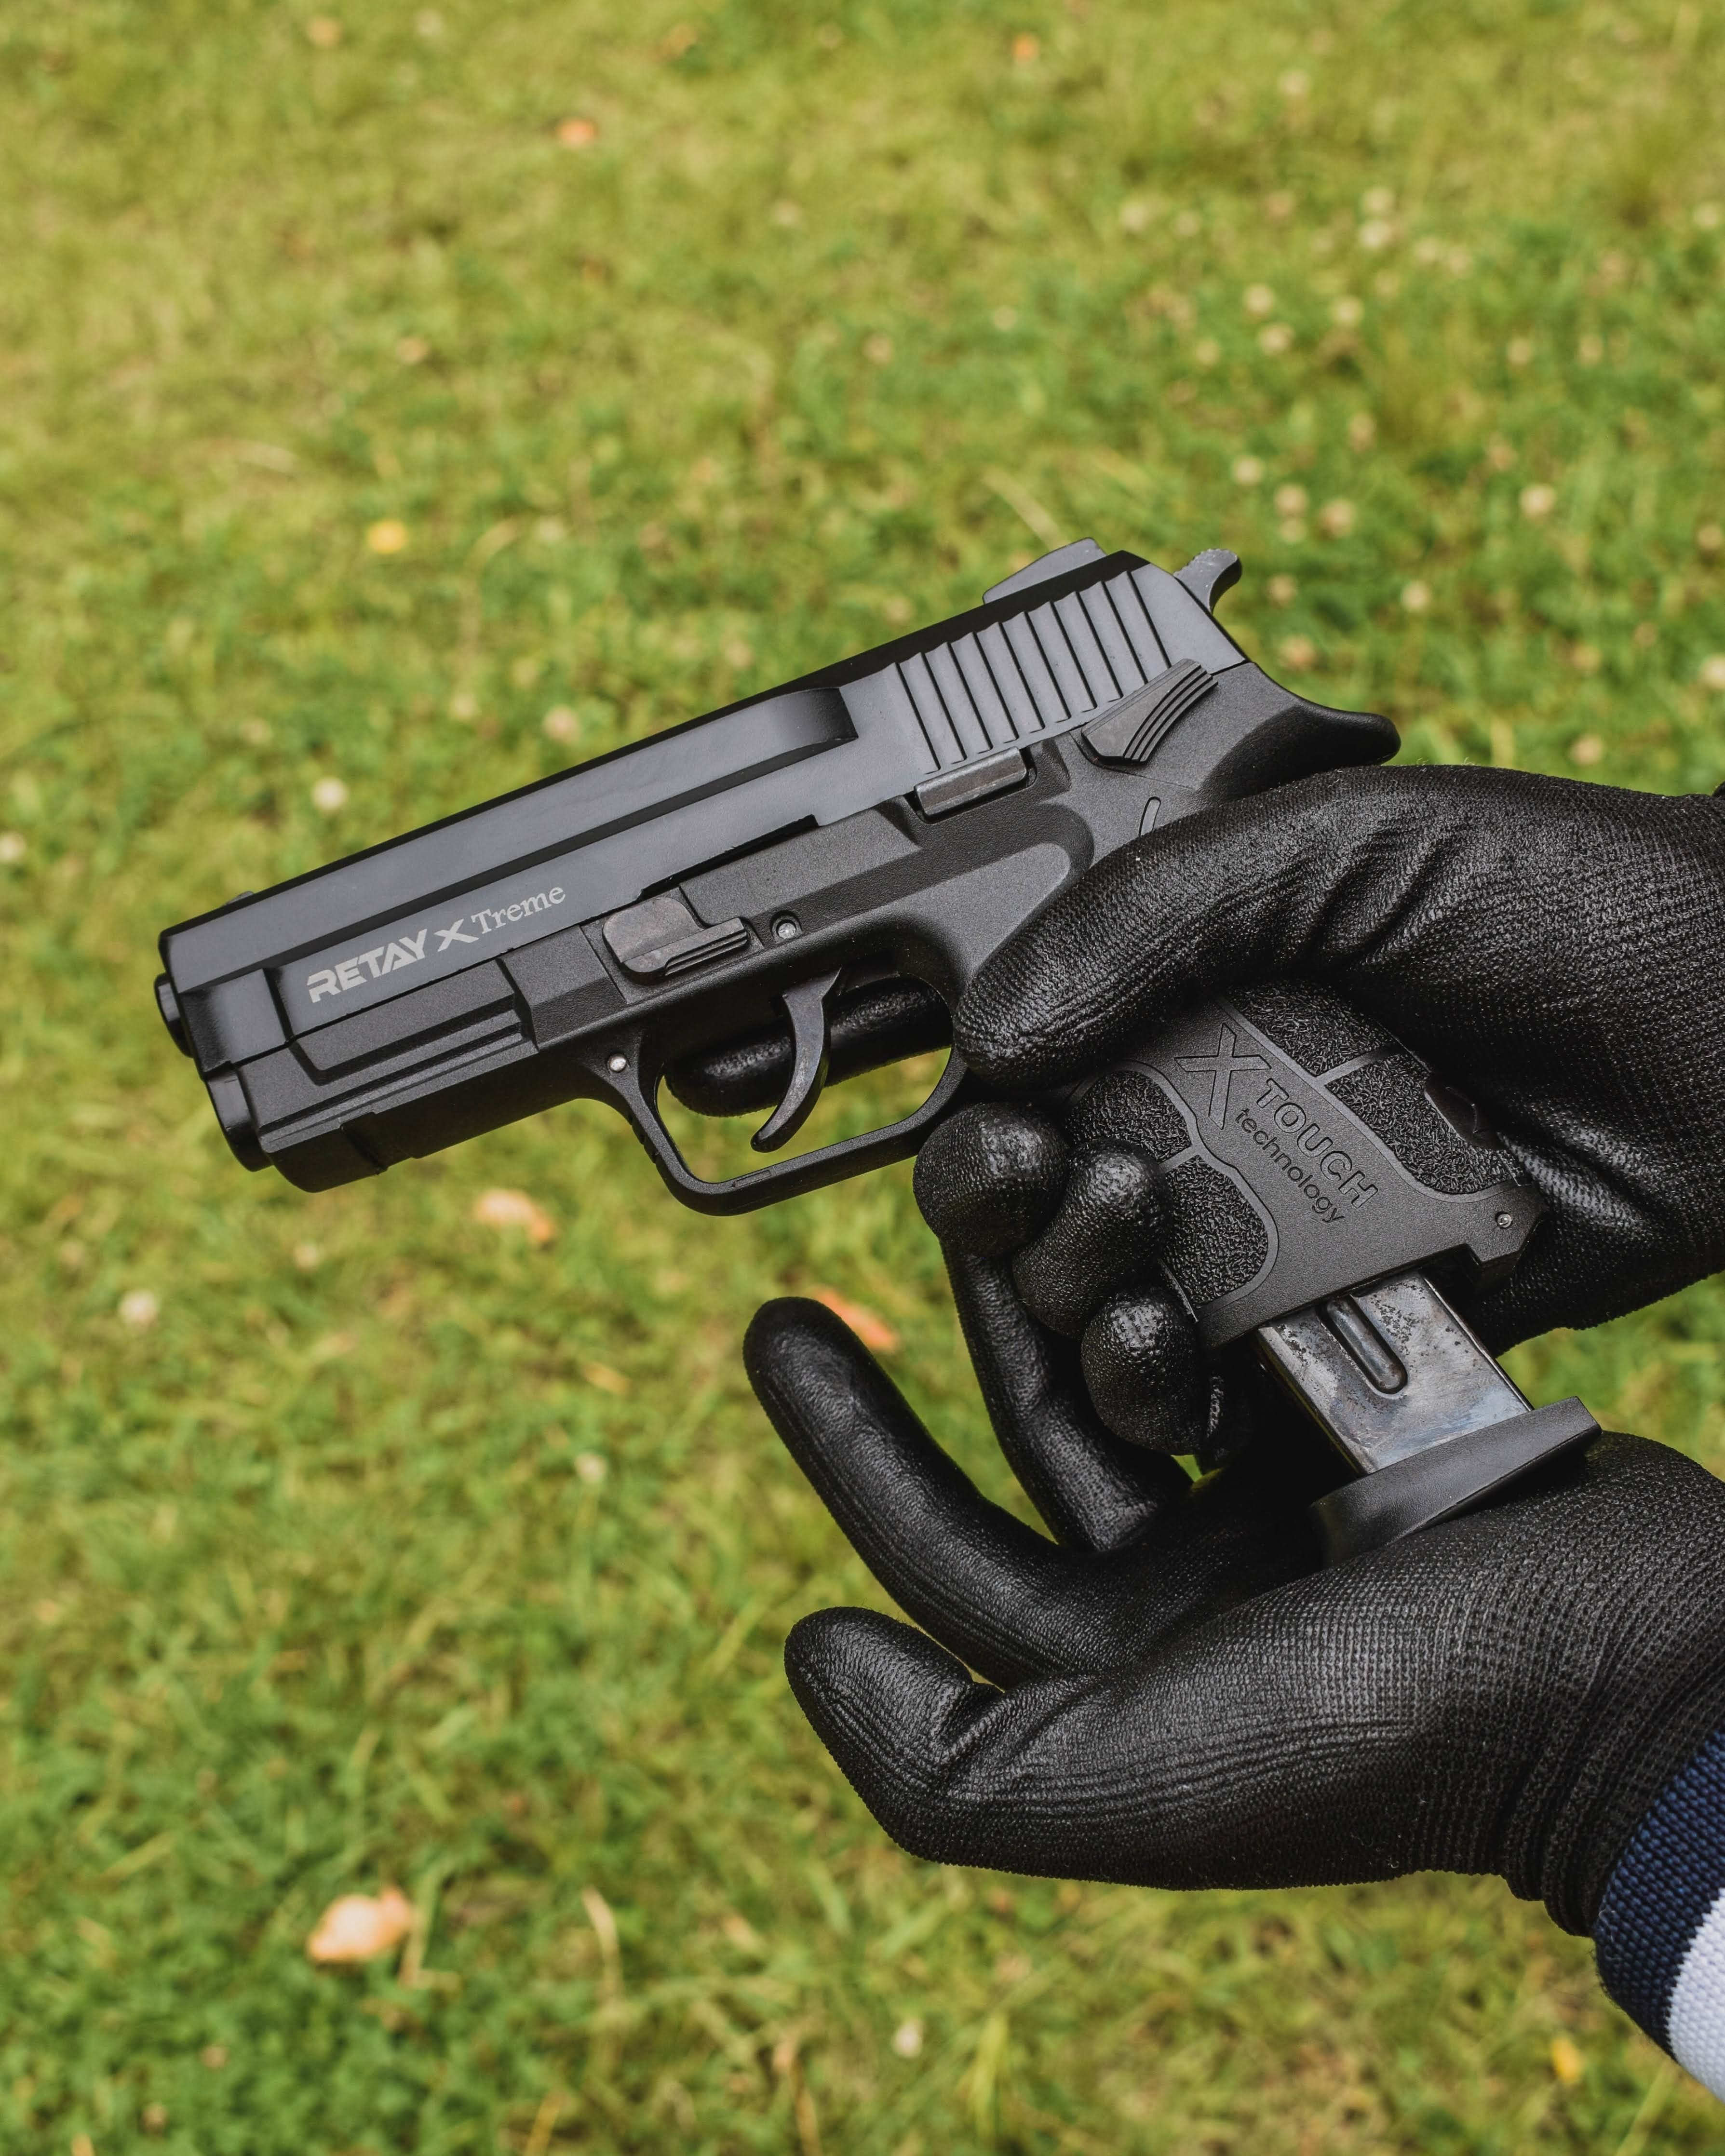gun: (137, 510, 1623, 1558)
